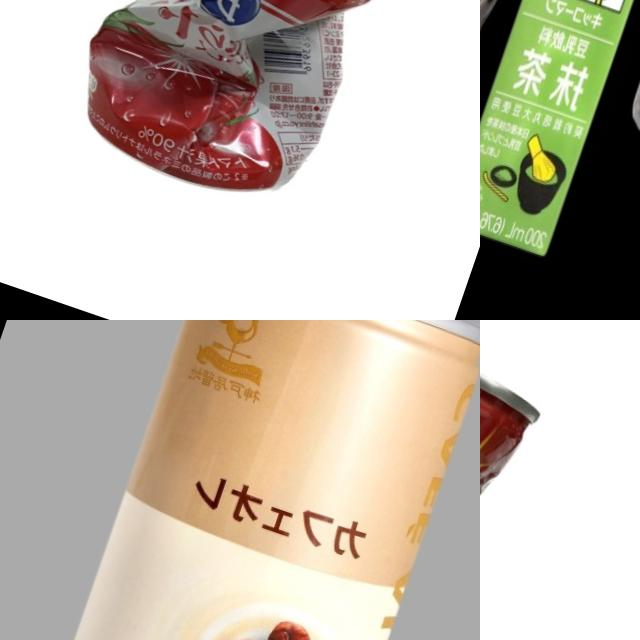Aluminium Foil: (480, 0, 640, 264)
Can: (6, 320, 480, 640), (64, 0, 415, 215), (480, 320, 548, 640), (480, 0, 537, 180)
